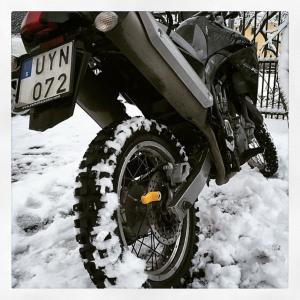Vehicle-registration-plate: (17, 32, 83, 117)
